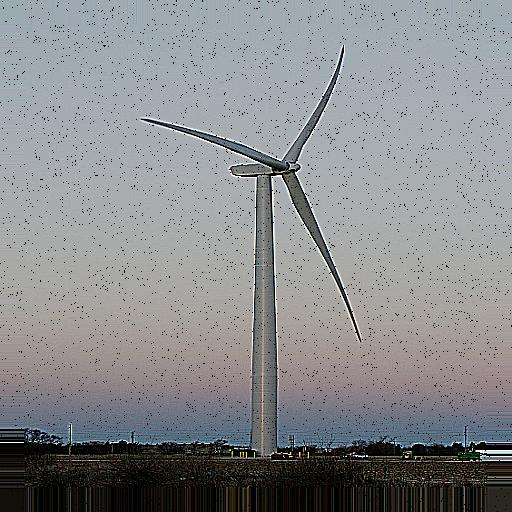wind turbine: (138, 44, 362, 449)
